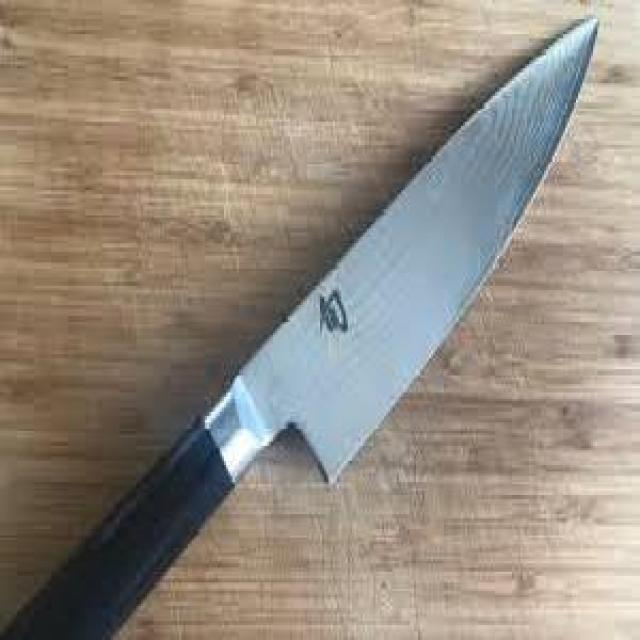knife: (0, 15, 603, 640)
